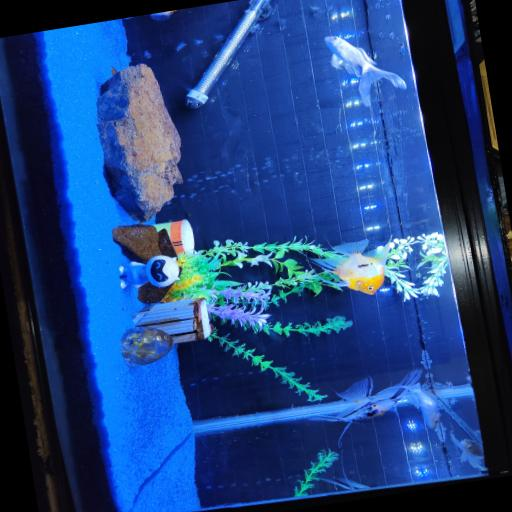Fish: (308, 369, 421, 445), (324, 35, 405, 105), (310, 238, 389, 293), (397, 383, 439, 427), (318, 453, 368, 489), (450, 433, 485, 470), (318, 477, 368, 489), (149, 10, 174, 20)
